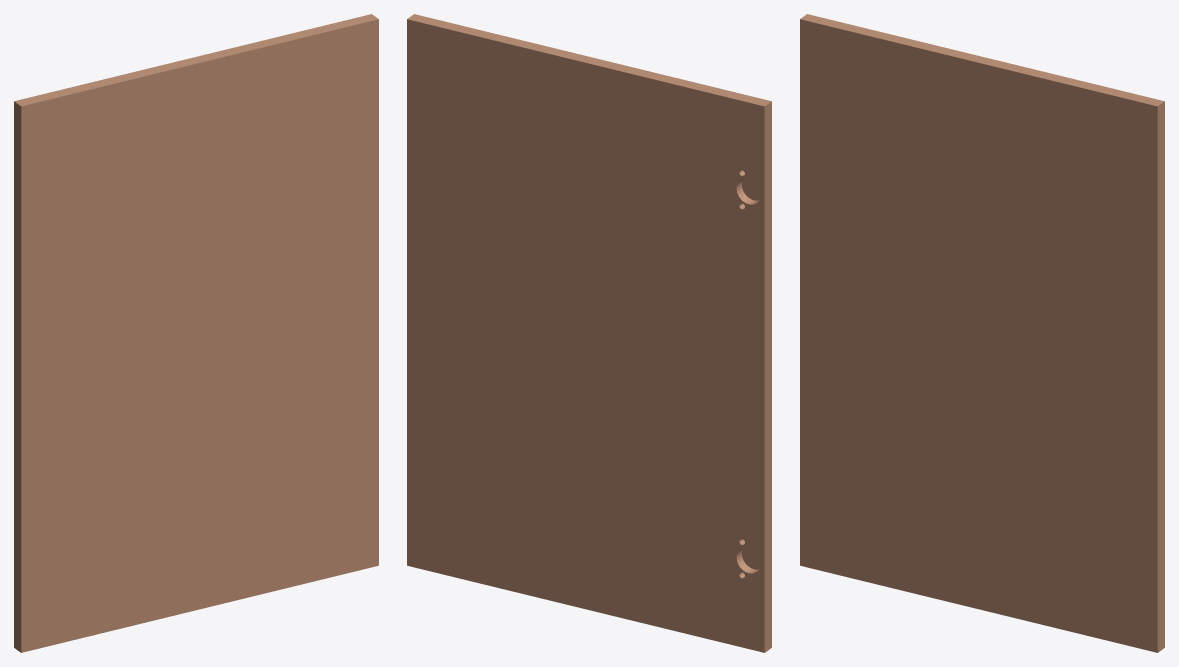
The model's file is A1_dor.glb.
The picture shows the model from 3 angles, left to right: view 1: azimuth 30°, elevation 25°; view 2: azimuth 150°, elevation 25°; view 3: azimuth 330°, elevation 25°; orthographic projection.
Bounding box in the file's own units: 506 × 738 × 17.4.
